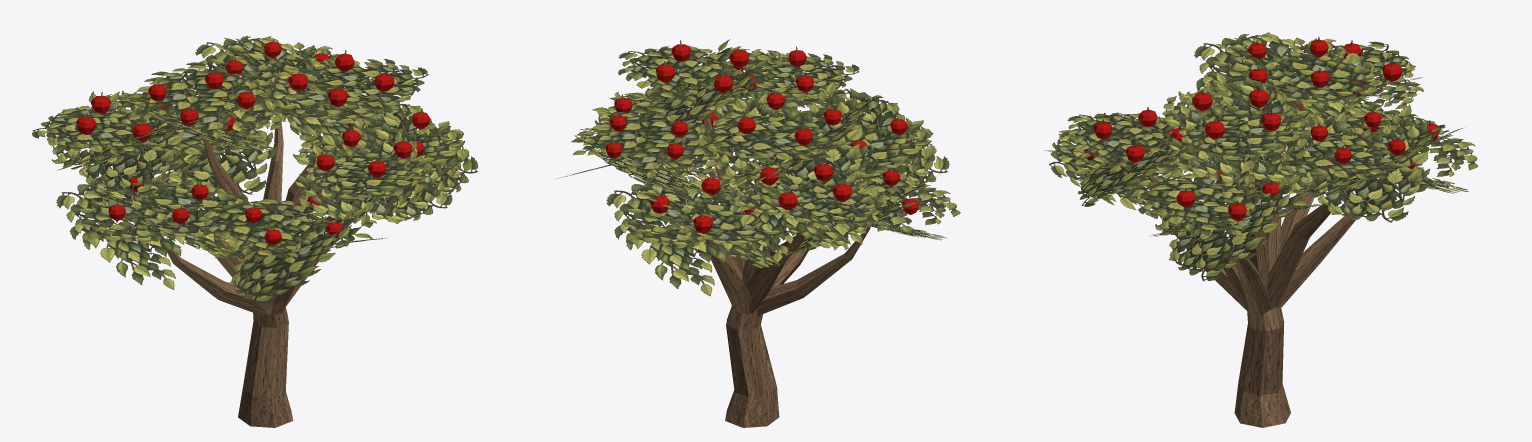
The model's file is Melo_03_Maturo.obj.
The picture shows the model from 3 angles, left to right: view 1: azimuth 30°, elevation 25°; view 2: azimuth 150°, elevation 25°; view 3: azimuth 270°, elevation 25°; orthographic projection. The views are drawn at different scales.
Parts seen in each view (by area): view 1: Melo_03_Maturo; view 2: Melo_03_Maturo; view 3: Melo_03_Maturo.
Boxes of the visible parts, x1=… form: Melo_03_Maturo: x1=32, y1=36, x2=478, y2=427; Melo_03_Maturo: x1=555, y1=39, x2=960, y2=427; Melo_03_Maturo: x1=1044, y1=32, x2=1478, y2=427.
Bounding box in the file's own units: 5.77 × 4.75 × 6.16.
